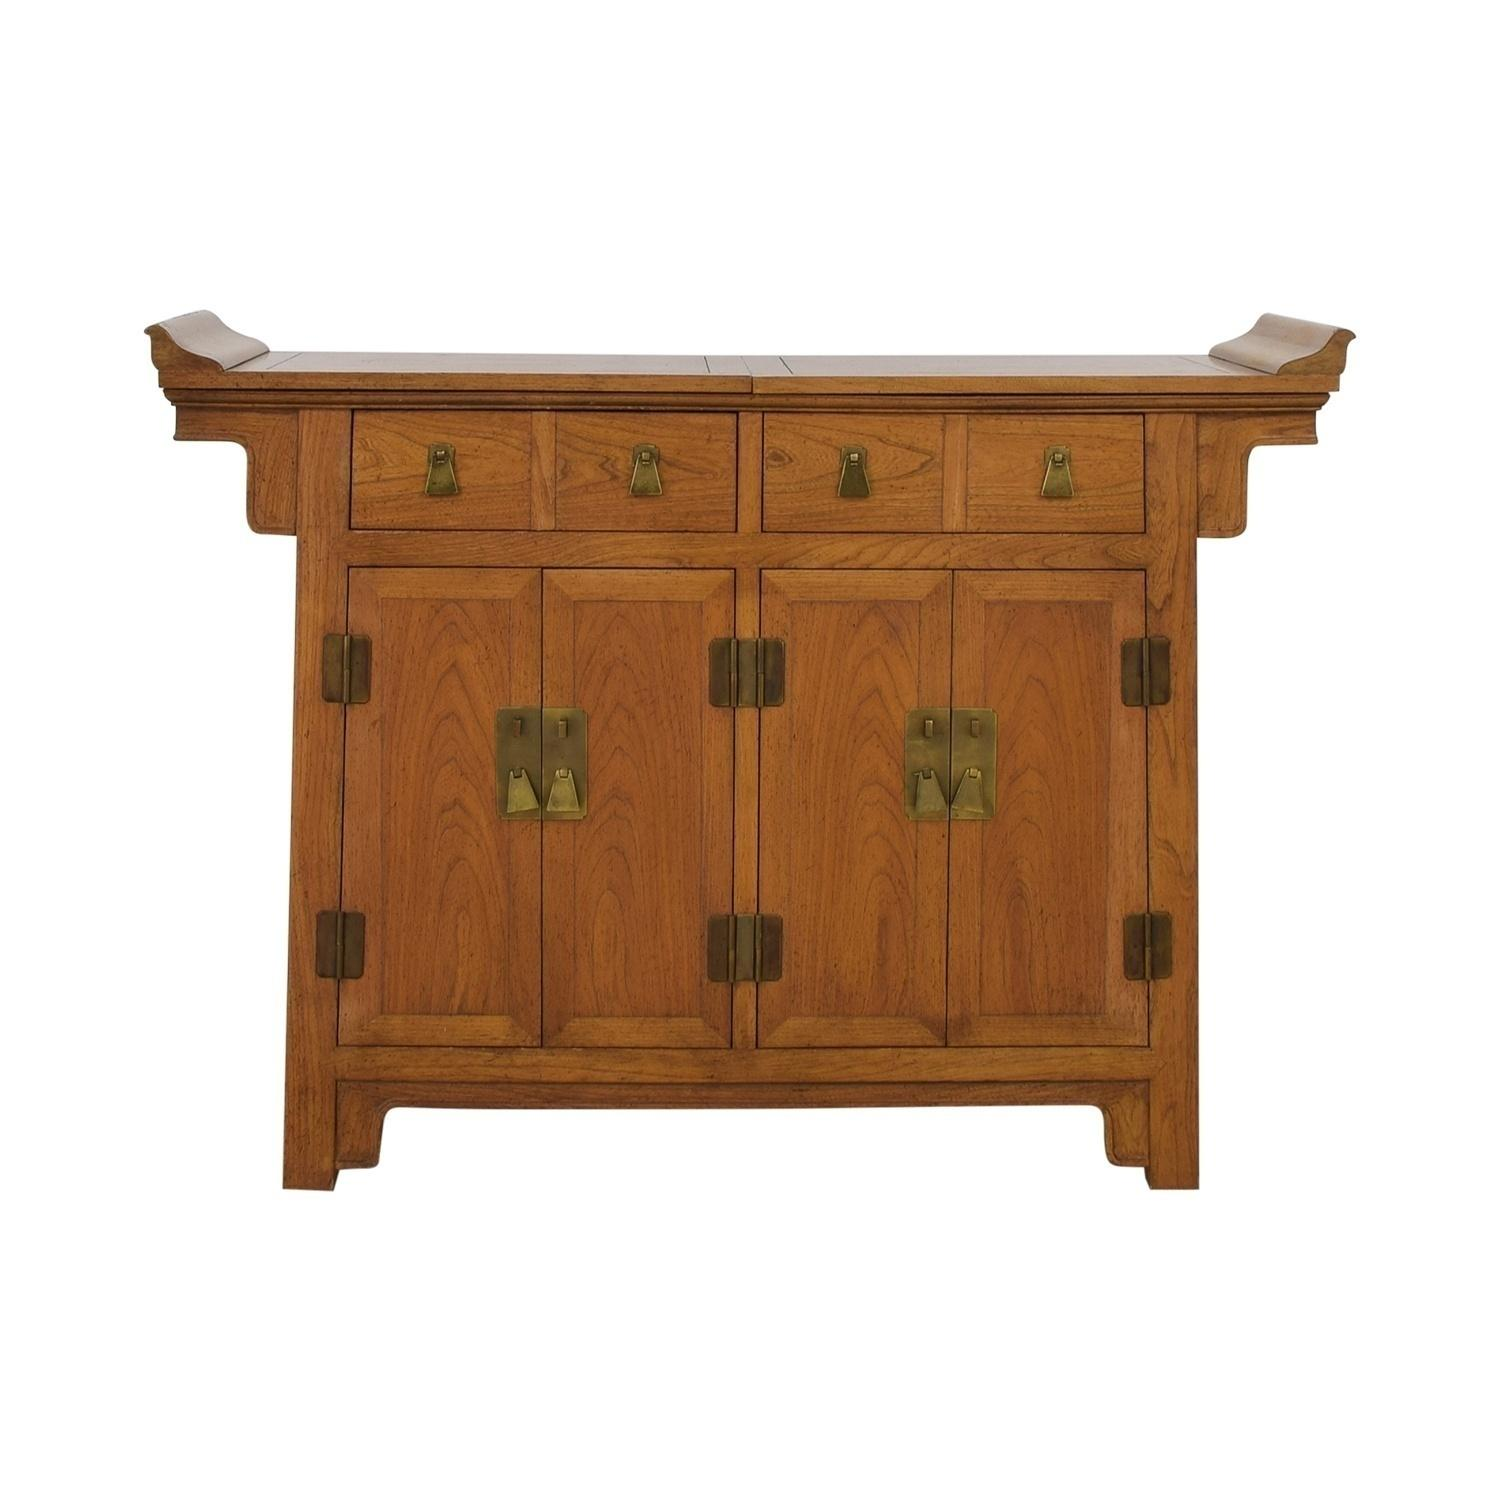cabinet_door: (342, 566, 544, 1047), (952, 569, 1148, 1045), (543, 566, 734, 1051), (758, 567, 949, 1048), (352, 416, 551, 536), (555, 415, 740, 540), (764, 416, 946, 533), (967, 418, 1144, 533)
handle: (905, 709, 951, 823), (543, 709, 588, 821), (496, 709, 540, 824), (956, 710, 997, 819), (422, 440, 463, 499), (628, 440, 666, 503), (1037, 444, 1076, 503), (837, 445, 870, 505)
